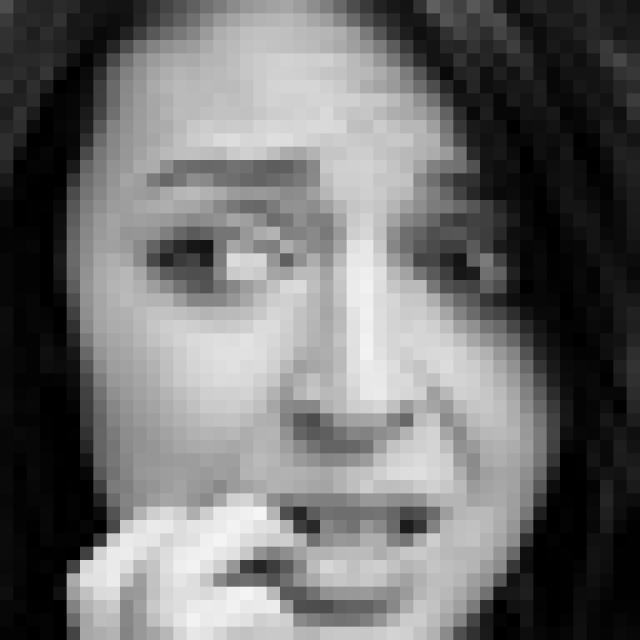fear: (134, 130, 517, 619)
